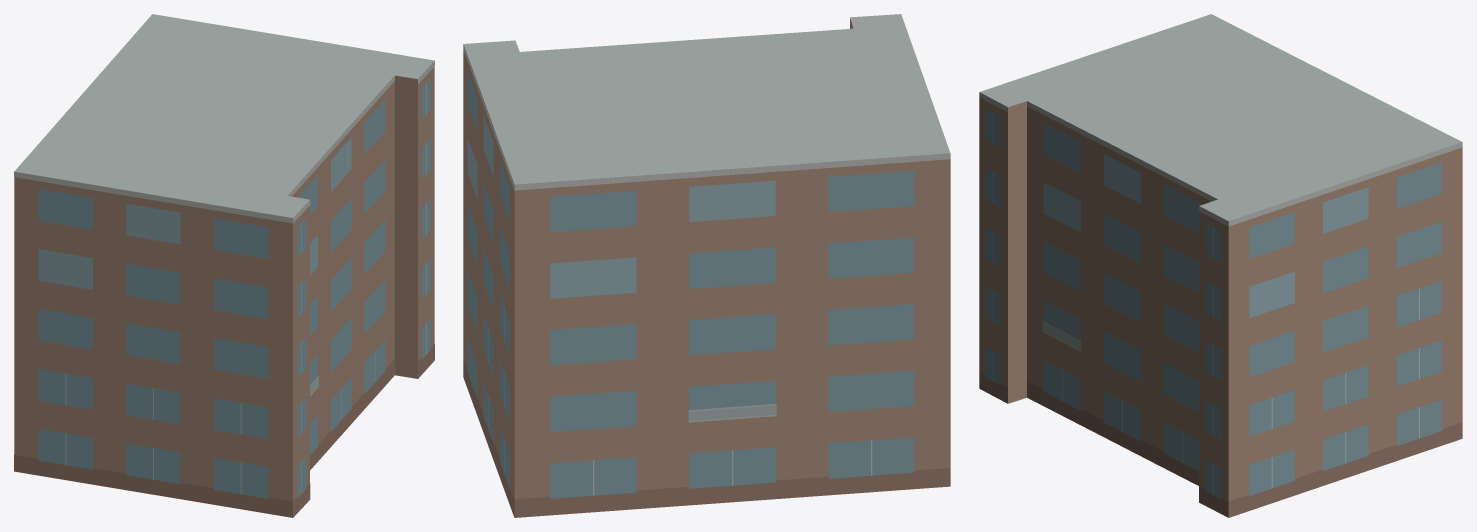
File: survey-upis-32681848.glb
The picture shows the model from 3 angles, left to right: view 1: azimuth 30°, elevation 25°; view 2: azimuth 150°, elevation 25°; view 3: azimuth 270°, elevation 25°; orthographic projection. The views are drawn at different scales.
Parts seen in each view (by area): view 1: survey-upis-32681848.tmp; view 2: survey-upis-32681848.tmp; view 3: survey-upis-32681848.tmp.
Part boxes in pixels (x1,y1,x2,y2): survey-upis-32681848.tmp: [14, 14, 434, 517]; survey-upis-32681848.tmp: [463, 14, 950, 517]; survey-upis-32681848.tmp: [979, 14, 1462, 517].
Size of the model in its own units: 20.4 by 13.6 by 20.09.
